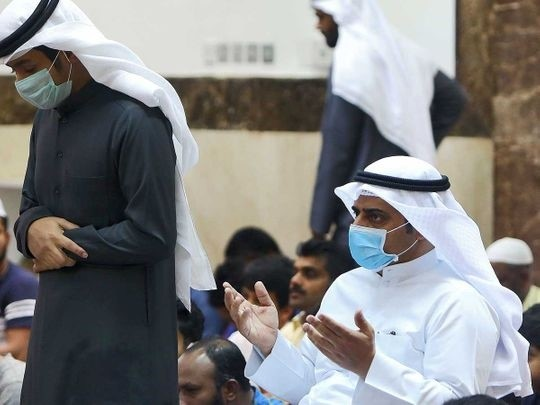face_no_mask: (177, 336, 249, 404), (287, 238, 334, 308)
face_with_mask: (339, 160, 447, 277), (4, 0, 88, 121)
